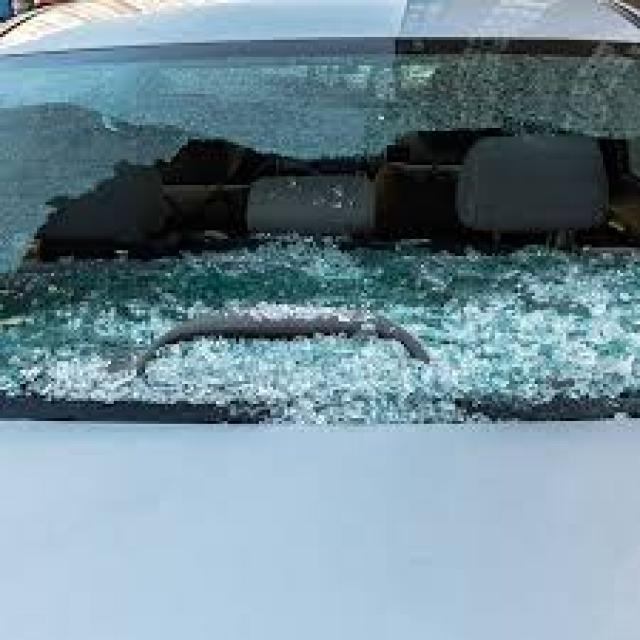damaged-rear-window: (0, 47, 640, 422)
